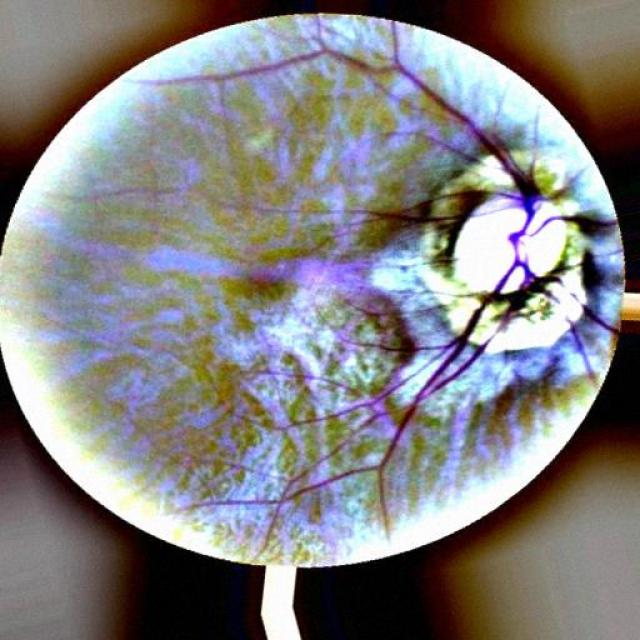Optic Disk: (415, 149, 594, 351)
